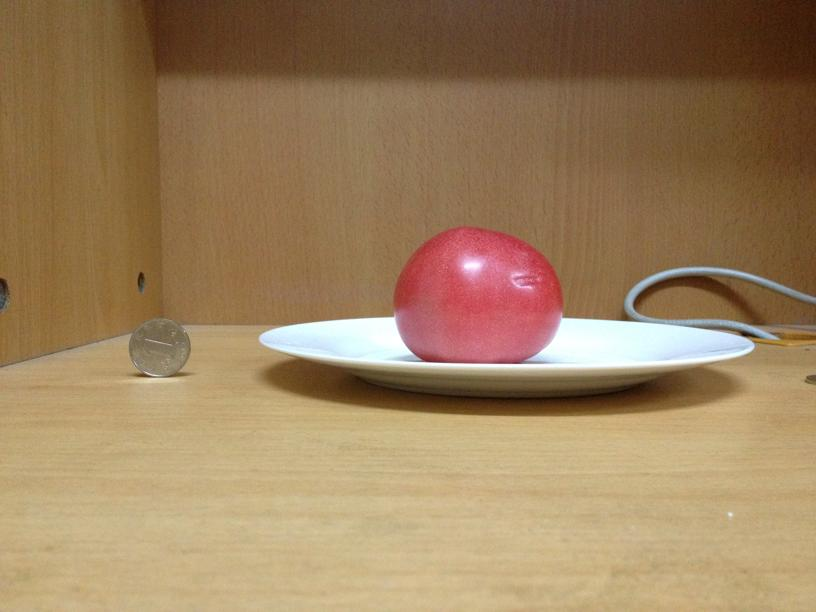coin: (123, 316, 192, 376)
tomato: (392, 223, 562, 363)
